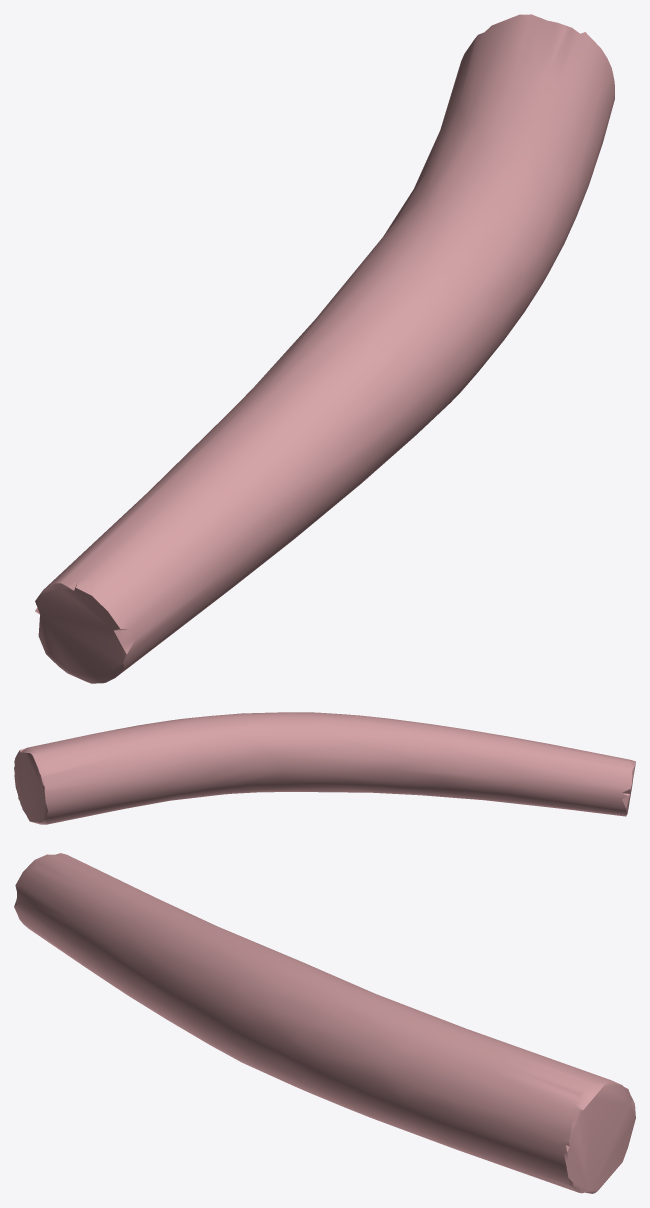
The model's file is fma68213_fj2516.glb.
3 views of the same model, one above another, from view 1: azimuth 30°, elevation 25°; view 2: azimuth 150°, elevation 25°; view 3: azimuth 270°, elevation 25° (orthographic). The views are drawn at different scales.
Visible parts, largest first — view 1: FMA68213_FJ2516; view 2: FMA68213_FJ2516; view 3: FMA68213_FJ2516.
Boxes of the visible parts, bbox=[...] form: FMA68213_FJ2516: bbox=[35, 14, 614, 683]; FMA68213_FJ2516: bbox=[14, 712, 635, 824]; FMA68213_FJ2516: bbox=[14, 853, 635, 1193].
Size of the model in its own units: 0.023 by 0.00488 by 0.0185.
